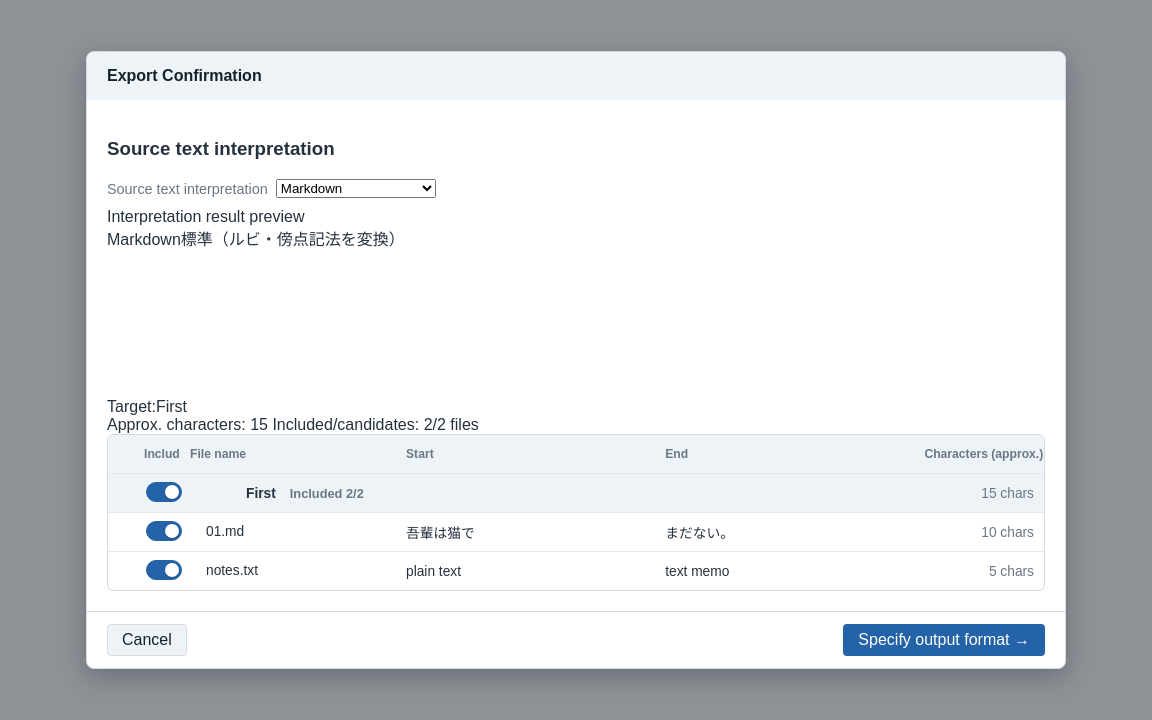
it: ExportConfirmationDialog (#523) › updates included count and total characters when a row is toggled
The width and height of the screenshot is (1152, 720).
Click the checkbox named "Include 01.md". click: (164, 531)
box: top-left (144, 520), bottom-right (184, 542)
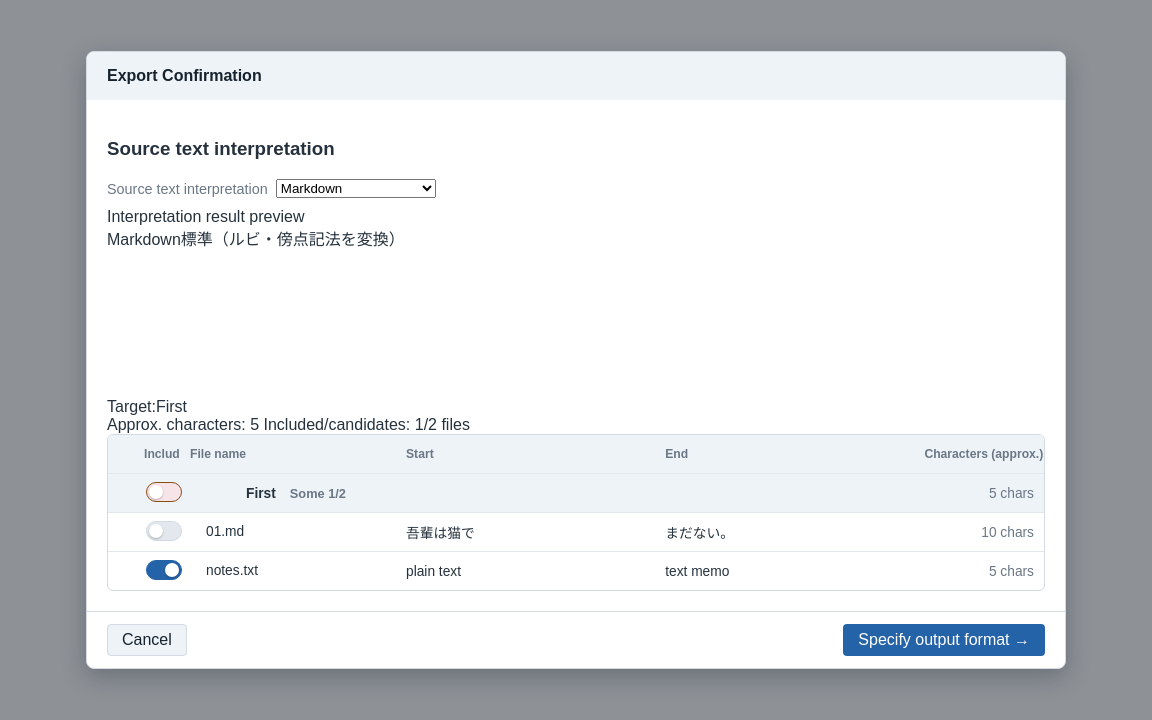
expect the text "Approx. characters: 5 Included/candidates: 1/2 files" is shown: met, box top-left (107, 416), bottom-right (470, 433)
Click the checkbox named "Include 01.md". click: (164, 531)
box: top-left (144, 520), bottom-right (184, 542)
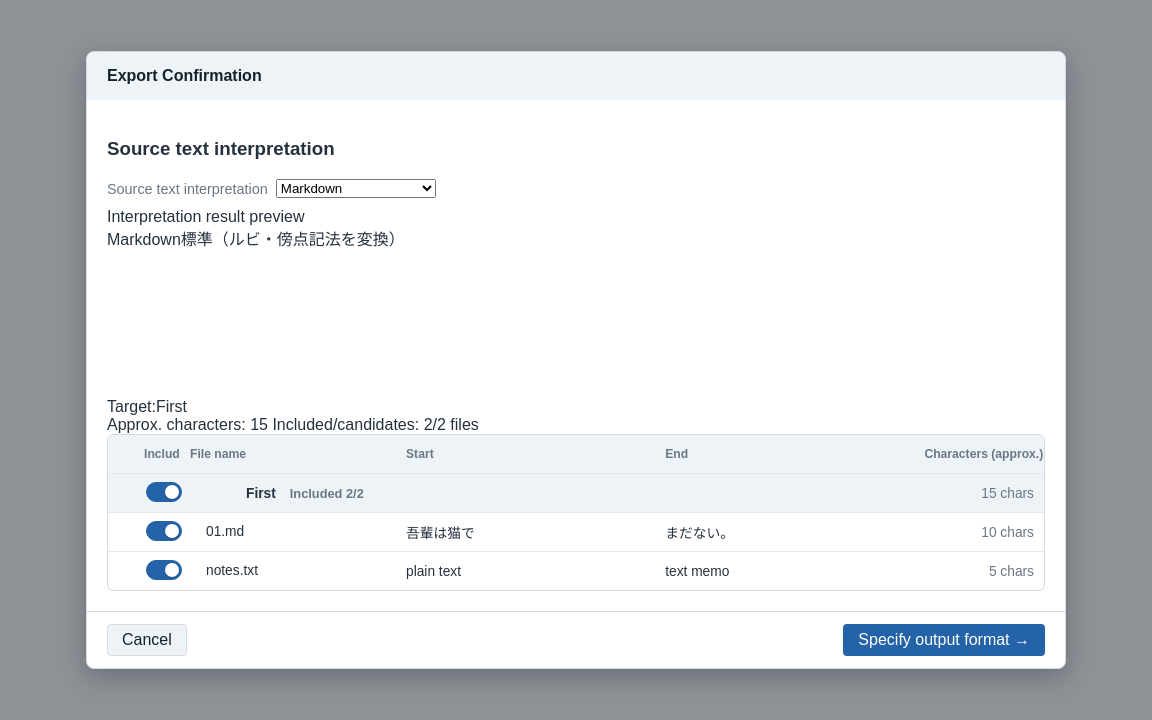
expect the text "Approx. characters: 15 Included/candidates: 2/2 files" is shown: met, box top-left (107, 416), bottom-right (479, 433)
